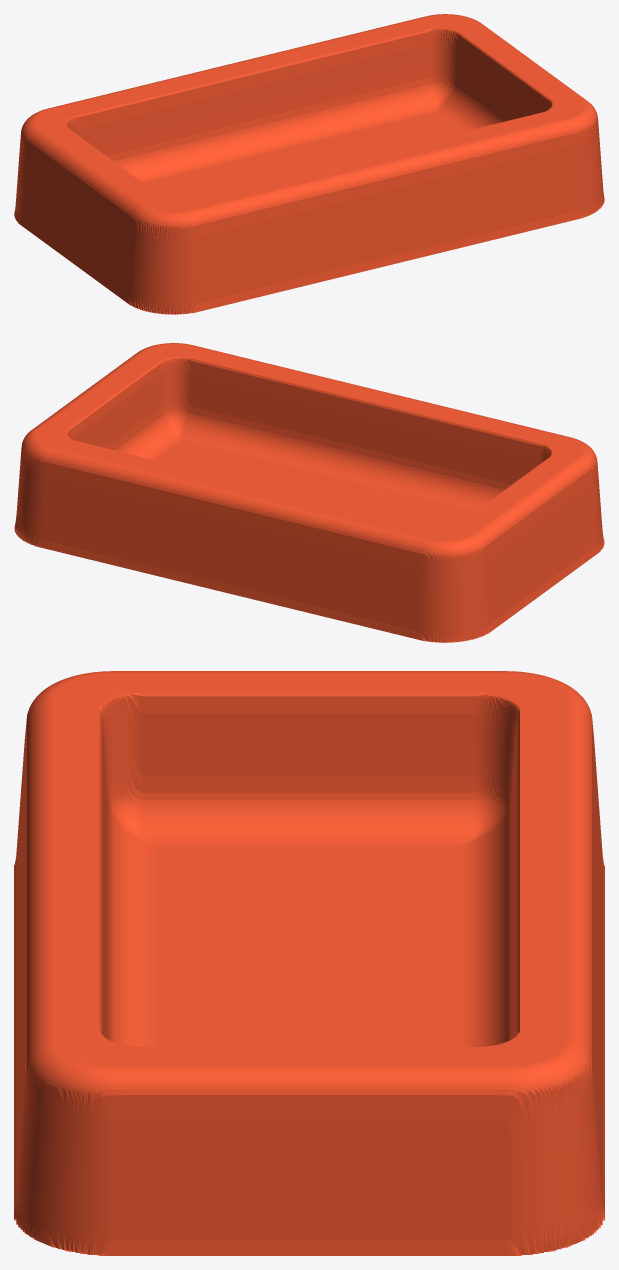
File: mold.glb
The picture shows the model from 3 angles, top to bottom: view 1: azimuth 30°, elevation 25°; view 2: azimuth 150°, elevation 25°; view 3: azimuth 270°, elevation 25°; orthographic projection. The views are drawn at different scales.
Parts seen in each view (by area): view 1: geometry_0; view 2: geometry_0; view 3: geometry_0.
Part boxes in pixels (x1,y1,x2,y2): geometry_0: (14, 14, 604, 314); geometry_0: (14, 343, 604, 642); geometry_0: (14, 671, 604, 1255).
Size of the model in its own units: 0.0924 by 0.0175 by 0.0542.
